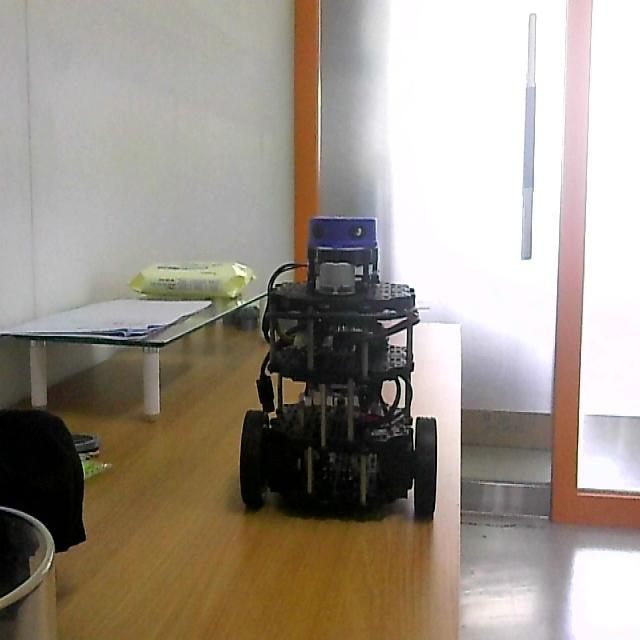turtle: (240, 215, 439, 520)
